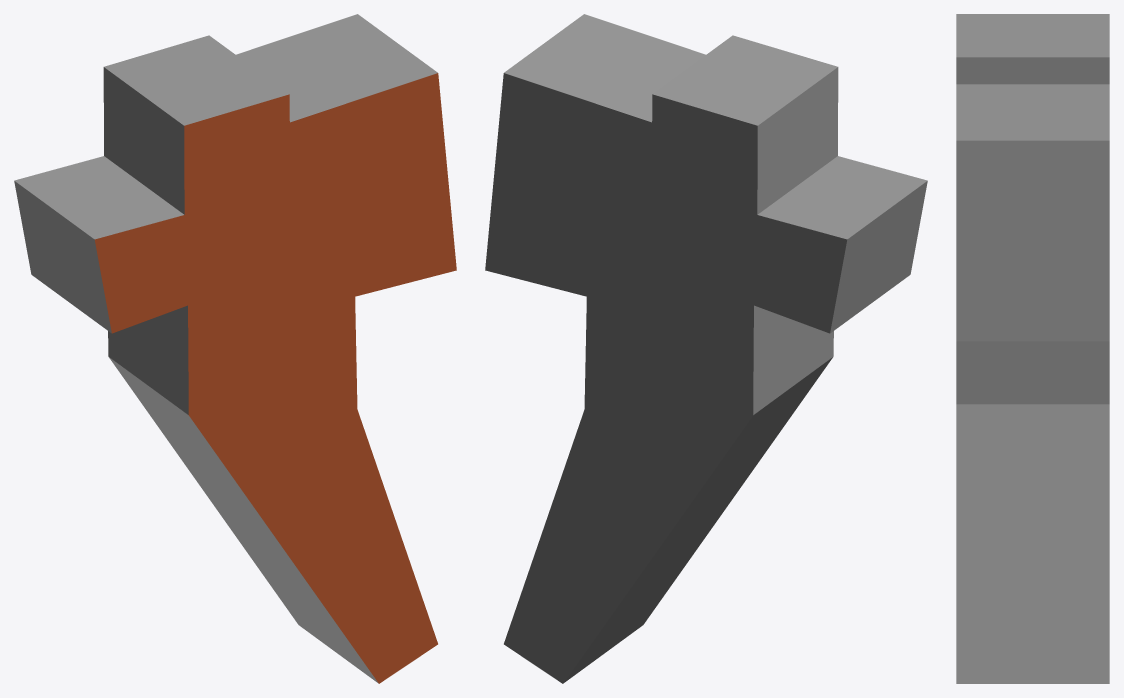
File: construction_6214_assumed_A_Casa_h6m.obj
3 renders of one model, left to right at view 1: azimuth 30°, elevation 25°; view 2: azimuth 150°, elevation 25°; view 3: azimuth 270°, elevation 25°, orthographic. The views are drawn at different scales.
Parts seen in each view (by area): view 1: construction_6214_assumed_A_Casa; view 2: construction_6214_assumed_A_Casa; view 3: construction_6214_assumed_A_Casa.
Boxes of the visible parts, x1,y1,x2,y2 form: construction_6214_assumed_A_Casa: (14,14,456,683); construction_6214_assumed_A_Casa: (485,14,927,683); construction_6214_assumed_A_Casa: (956,14,1109,683).
Size of the model in its own units: 15.58 by 25.14 by 6.
